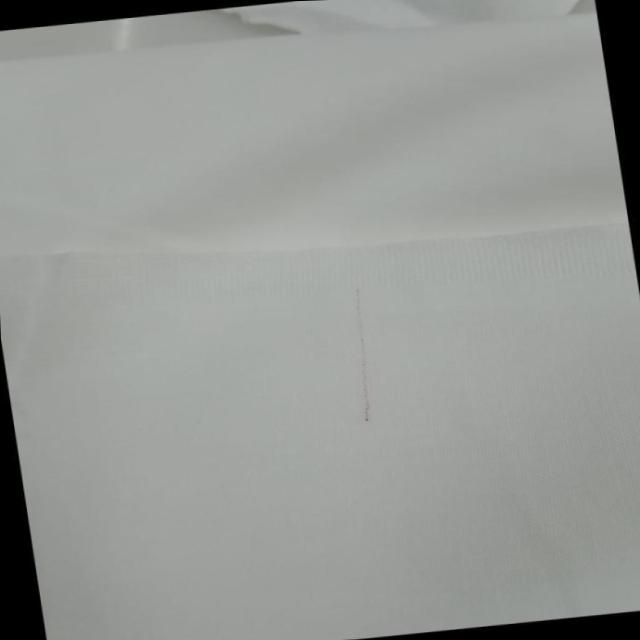contamination: (334, 278, 390, 428)
